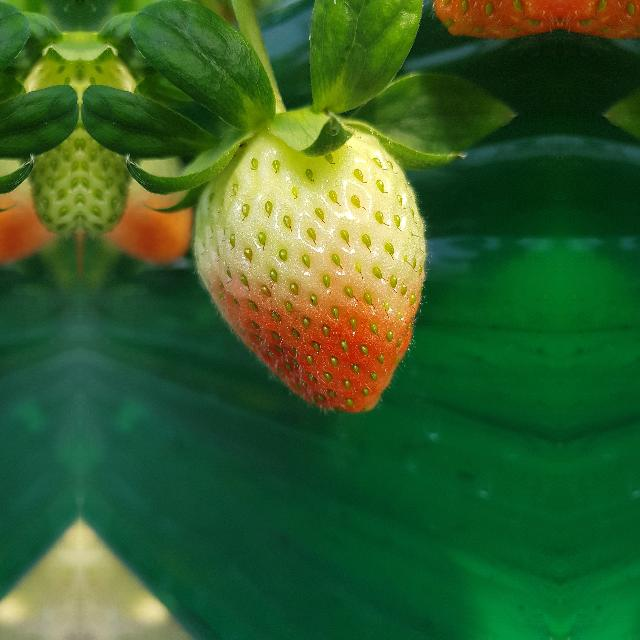Health_50: (191, 121, 429, 413)
